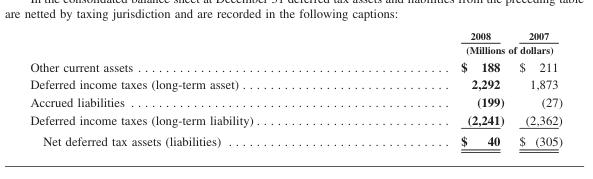table: (29, 29, 561, 148)
table column: (29, 29, 359, 148), (359, 29, 511, 148), (511, 29, 561, 148)
table column header: (29, 29, 561, 56)
table row: (29, 110, 561, 130), (29, 56, 561, 74), (29, 74, 561, 92), (29, 92, 561, 110), (29, 130, 561, 148), (29, 42, 561, 56), (29, 29, 561, 42)
table spanning cell: (359, 42, 561, 56)
